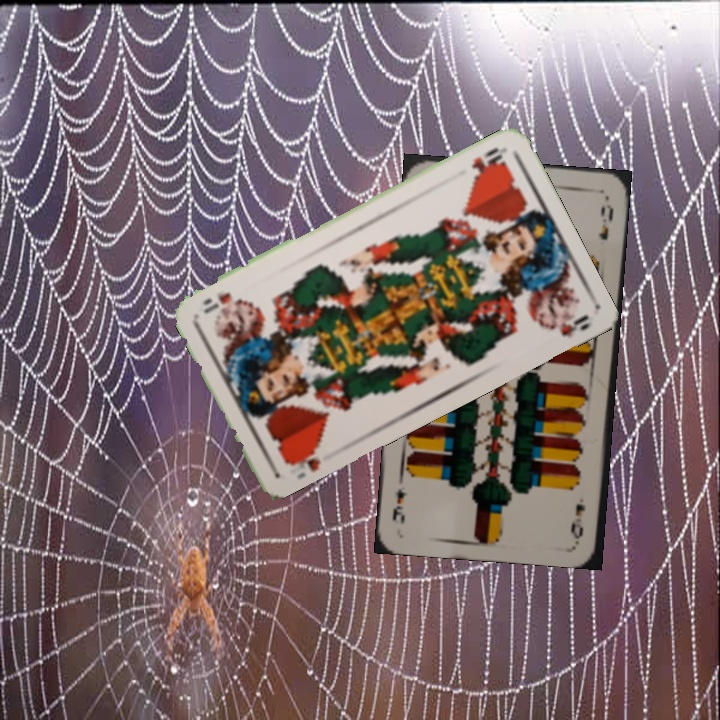E9: (568, 500, 588, 542)
HO: (467, 143, 508, 180), (281, 440, 323, 474)
